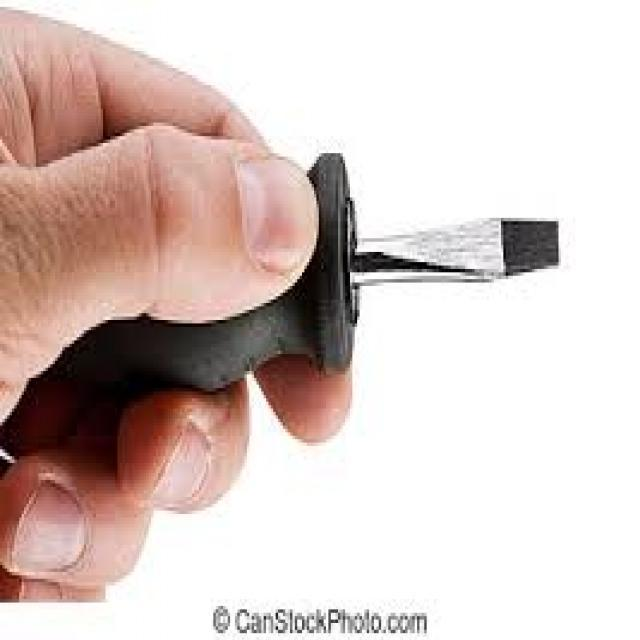screwdriver: (89, 142, 566, 392)
